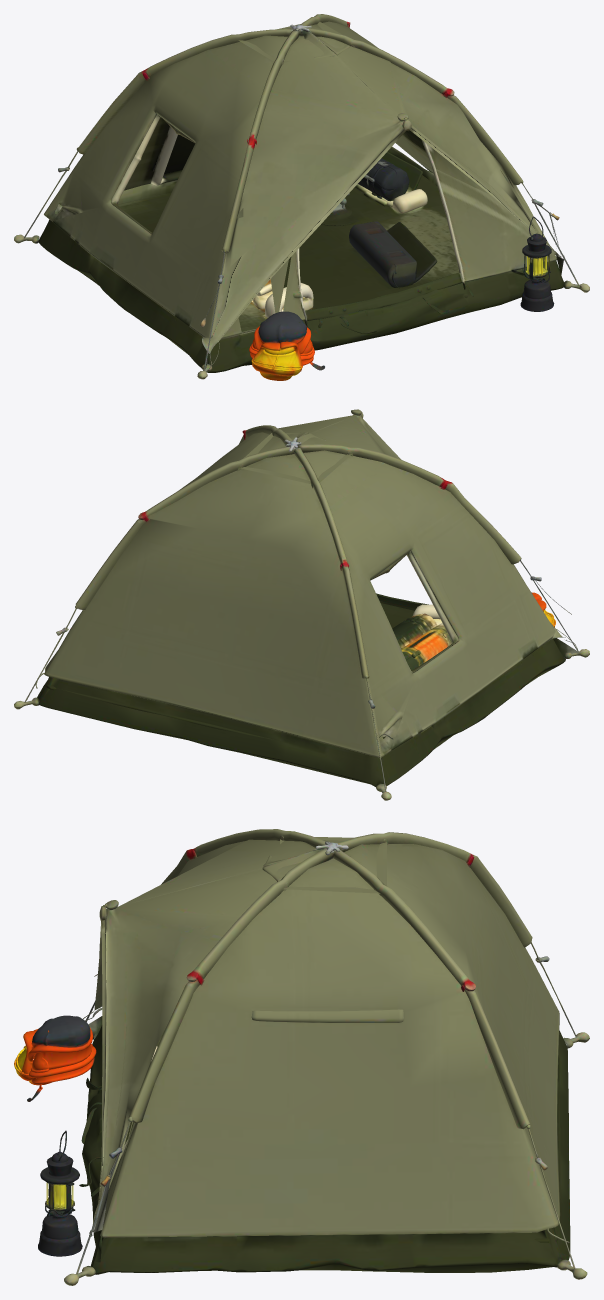
Rendered from toonstudio_camping_tent.glb.
3 renders of one model, top to bottom at view 1: azimuth 30°, elevation 25°; view 2: azimuth 150°, elevation 25°; view 3: azimuth 270°, elevation 25°, orthographic. The views are drawn at different scales.
Visible parts, largest first — view 1: tripo_23f599a5_ac82_46ac_8c49_d55dcff2d6f1; view 2: tripo_23f599a5_ac82_46ac_8c49_d55dcff2d6f1; view 3: tripo_23f599a5_ac82_46ac_8c49_d55dcff2d6f1.
Part boxes in pixels (bbox=[...]): tripo_23f599a5_ac82_46ac_8c49_d55dcff2d6f1: bbox=[14, 14, 589, 380]; tripo_23f599a5_ac82_46ac_8c49_d55dcff2d6f1: bbox=[14, 409, 589, 800]; tripo_23f599a5_ac82_46ac_8c49_d55dcff2d6f1: bbox=[14, 829, 589, 1285].
Bounding box in the file's own units: 2.5 × 1.49 × 2.41.
1 material, 1 textured.
